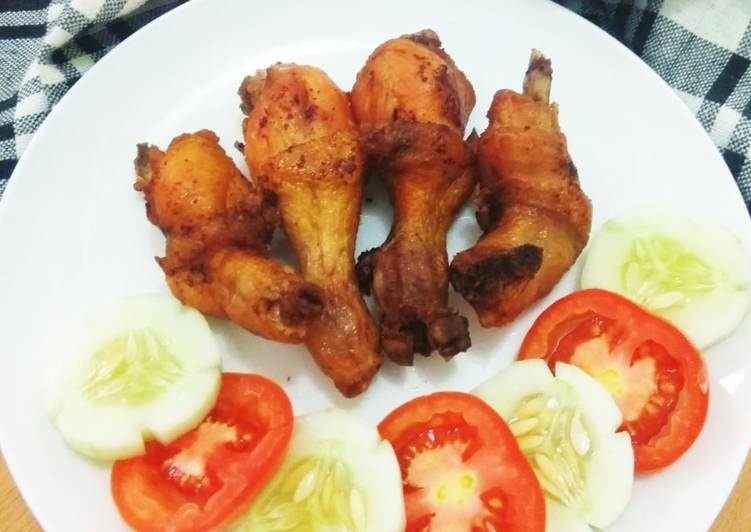ayam_goreng: (224, 46, 400, 395), (339, 13, 481, 381)
